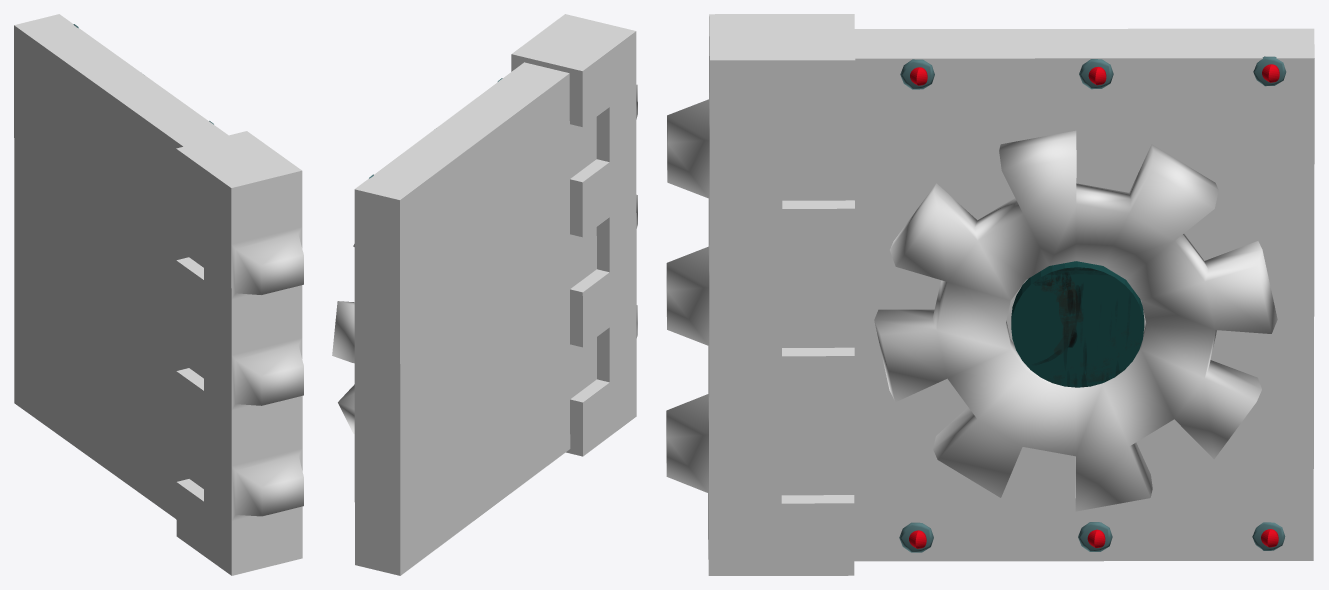
File: Дверь2.fbx
3 renders of one model, left to right at view 1: azimuth 30°, elevation 25°; view 2: azimuth 150°, elevation 25°; view 3: azimuth 270°, elevation 25°, orthographic. The views are drawn at different scales.
Parts seen in each view (by area): view 1: Cube.011, Cube.012; view 2: Cube.011, Cube.012, Torus.006; view 3: Cube.011, Torus.006, Cube.012, Cylinder.009, Sphere.019, Sphere.016, Sphere.017, Sphere.015.
Part boxes in pixels (<box>): Cube.011: <box>14,14,228,518</box>; Cube.012: <box>176,131,303,575</box>; Cube.011: <box>354,62,596,575</box>; Cube.012: <box>511,14,637,456</box>; Torus.006: <box>332,244,354,433</box>; Cube.011: <box>781,28,1314,561</box>; Torus.006: <box>874,130,1277,511</box>; Cube.012: <box>666,14,855,575</box>; Cylinder.009: <box>1011,261,1144,387</box>; Sphere.019: <box>900,59,934,89</box>; Sphere.016: <box>899,522,933,552</box>; Sphere.017: <box>1079,59,1113,89</box>; Sphere.015: <box>1078,522,1112,551</box>.
Bounding box in the file's own units: 388 × 1489 × 1696.
